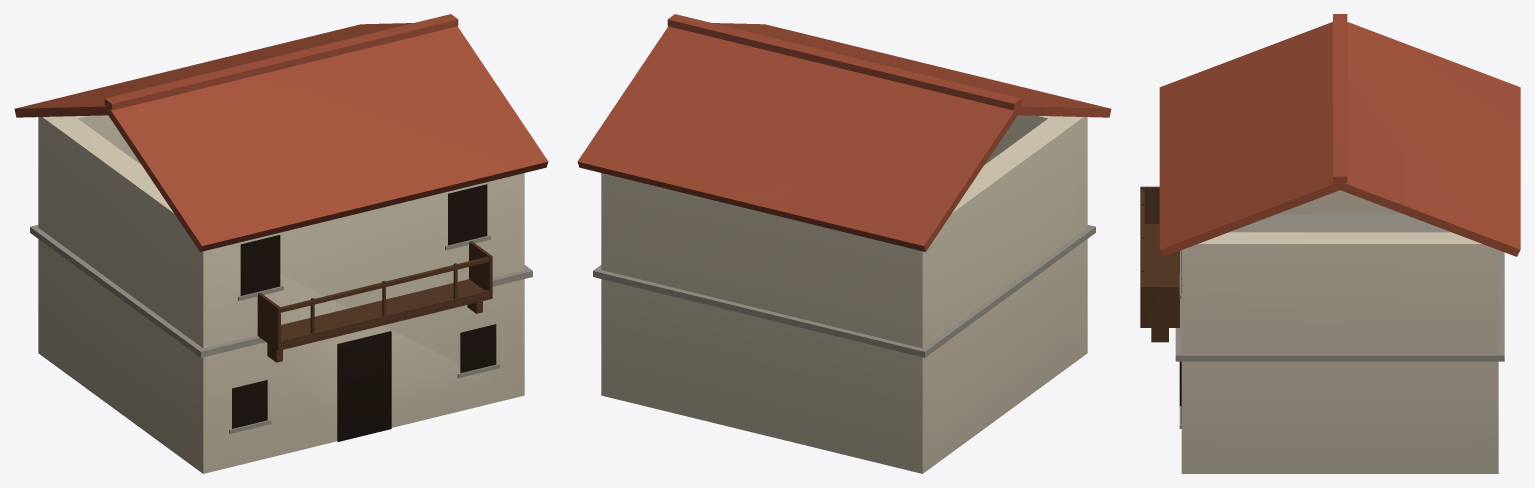
Rendered from colonial_casona_lod1.glb.
The picture shows the model from 3 angles, left to right: view 1: azimuth 30°, elevation 25°; view 2: azimuth 150°, elevation 25°; view 3: azimuth 270°, elevation 25°; orthographic projection. The views are drawn at different scales.
Visible parts, largest first — view 1: GEO-Arch_colonial_casona_LOD1; view 2: GEO-Arch_colonial_casona_LOD1; view 3: GEO-Arch_colonial_casona_LOD1.
Boxes of the visible parts, left/top/right/bottom form: GEO-Arch_colonial_casona_LOD1: left=14, top=14, right=548, bottom=473; GEO-Arch_colonial_casona_LOD1: left=577, top=14, right=1111, bottom=473; GEO-Arch_colonial_casona_LOD1: left=1140, top=14, right=1520, bottom=473.
Bounding box in the file's own units: 9.7 × 8.44 × 9.59.
